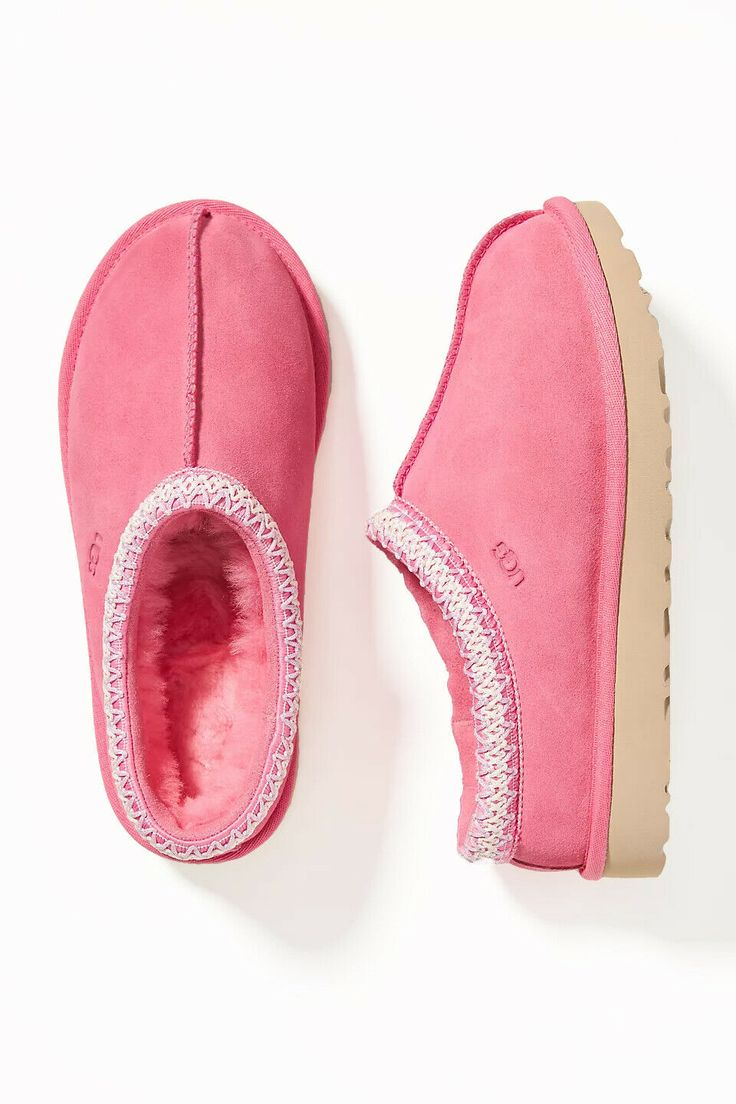gamuza: (61, 197, 627, 877)
